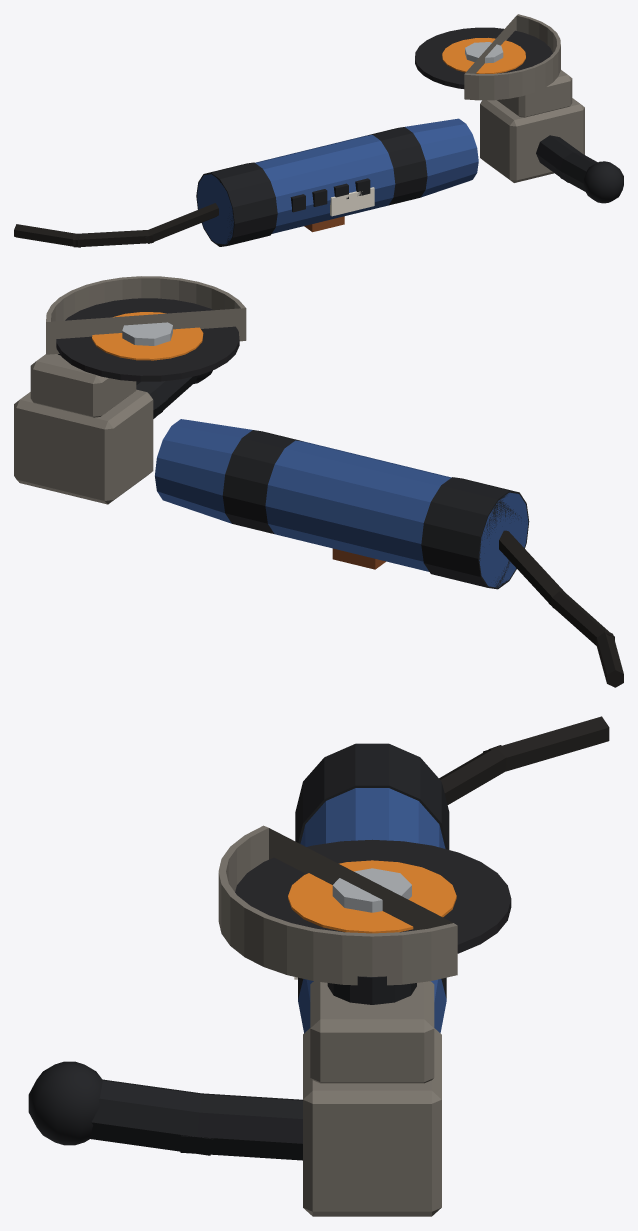
File: grinder.glb
3 views of the same model, one above another, from view 1: azimuth 30°, elevation 25°; view 2: azimuth 150°, elevation 25°; view 3: azimuth 270°, elevation 25° (orthographic). The views are drawn at different scales.
Visible parts, largest first — view 1: grinder; view 2: grinder; view 3: grinder.
Boxes of the visible parts, box(x1,y1,x2,y2) form: grinder: box(14, 14, 623, 247); grinder: box(14, 276, 623, 687); grinder: box(28, 716, 609, 1216).
Bounding box in the file's own units: 0.466 × 0.126 × 0.2341.
